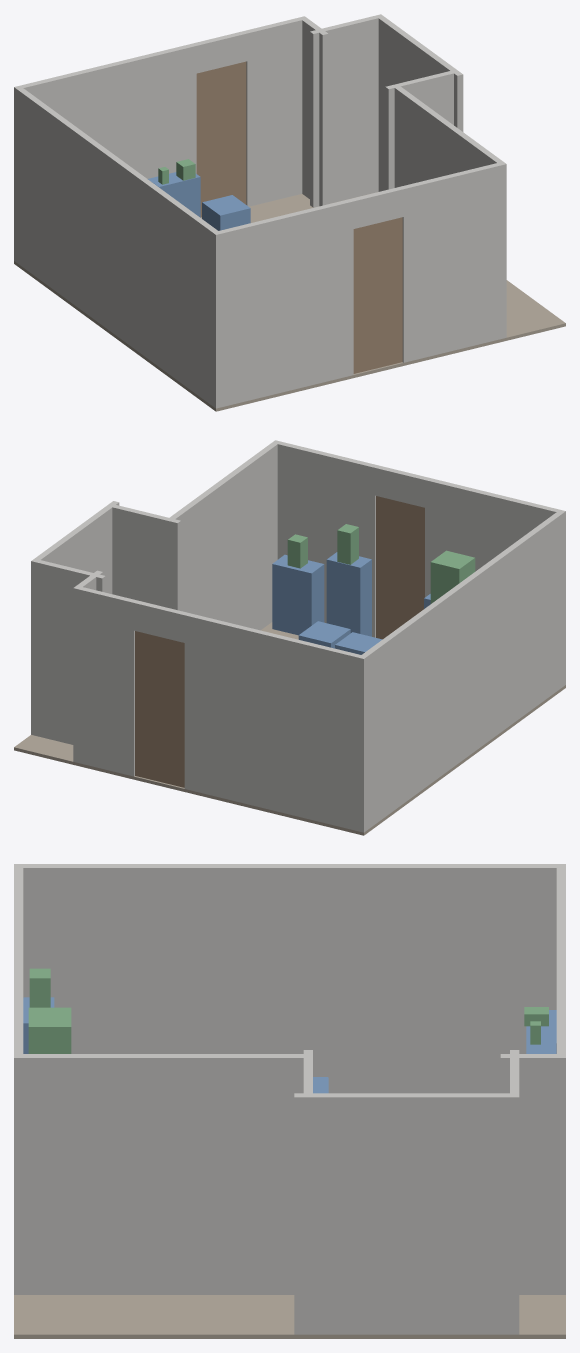
Rendered from room_081.glb.
3 views of the same model, one above another, from view 1: azimuth 30°, elevation 25°; view 2: azimuth 150°, elevation 25°; view 3: azimuth 270°, elevation 25° (orthographic). The views are drawn at different scales.
Parts seen in each view (by area): view 1: shell_wall_6_s0, shell_wall_7_s0, shell_wall_7_s2, shell_wall_5_s2, shell_wall_3_s0, shell_wall_5_s0, shell_wall_7_door, shell_wall_0_s0, shell_wall_5_door, shell_floor, shell_wall_2_s0, shell_wall_4_s0 (+5 smaller); view 2: shell_wall_6_s0, shell_wall_5_s2, shell_wall_0_s0, shell_wall_5_s0, shell_wall_7_s2, shell_wall_7_s0, shell_wall_3_s0, shell_wall_5_door, shell_wall_1_s0, shell_wall_7_door, shell_wall_2_s0, obj_022 (+10 smaller); view 3: shell_wall_6_s0, shell_wall_0_s0, shell_wall_2_s0, shell_floor, shell_wall_4_s0, shell_wall_1_s0, obj_005, shell_wall_7_s2, shell_wall_5_s0, shell_wall_3_s0, shell_wall_5_s2, shell_wall_7_s0 (+2 smaller).
Part boxes in pixels (x1,y1,x2,y2): shell_wall_6_s0: [14, 87, 221, 408]; shell_wall_7_s0: [212, 199, 353, 407]; shell_wall_7_s2: [400, 162, 506, 362]; shell_wall_5_s2: [14, 43, 196, 262]; shell_wall_3_s0: [310, 14, 383, 207]; shell_wall_5_s0: [244, 16, 304, 206]; shell_wall_7_door: [353, 217, 402, 373]; shell_wall_0_s0: [392, 84, 506, 338]; shell_wall_5_door: [196, 61, 246, 217]; shell_floor: [14, 192, 565, 411]; shell_wall_2_s0: [375, 14, 463, 191]; shell_wall_4_s0: [299, 16, 328, 206]; shell_wall_6_s0: [358, 509, 565, 831]; shell_wall_5_s2: [184, 613, 367, 832]; shell_wall_0_s0: [166, 440, 280, 630]; shell_wall_5_s0: [73, 586, 136, 776]; shell_wall_7_s2: [273, 440, 377, 637]; shell_wall_7_s0: [425, 477, 565, 686]; shell_wall_3_s0: [31, 560, 105, 744]; shell_wall_5_door: [135, 631, 184, 787]; shell_wall_1_s0: [107, 503, 180, 610]; shell_wall_7_door: [376, 496, 424, 639]; shell_wall_2_s0: [31, 501, 119, 730]; obj_022: [272, 554, 324, 635]; shell_wall_6_s0: [14, 864, 565, 1093]; shell_wall_0_s0: [14, 1054, 312, 1294]; shell_wall_2_s0: [294, 1093, 519, 1334]; shell_floor: [14, 1295, 565, 1338]; shell_wall_4_s0: [500, 1054, 565, 1294]; shell_wall_1_s0: [303, 1050, 312, 1334]; obj_005: [28, 1007, 71, 1053]; shell_wall_7_s2: [14, 989, 23, 1294]; shell_wall_5_s0: [556, 1017, 565, 1294]; shell_wall_3_s0: [510, 1050, 519, 1334]; shell_wall_5_s2: [556, 864, 565, 983]; shell_wall_7_s0: [14, 864, 23, 955].
Bounding box in the file's own units: 5.9 × 2.85 × 5.9.
